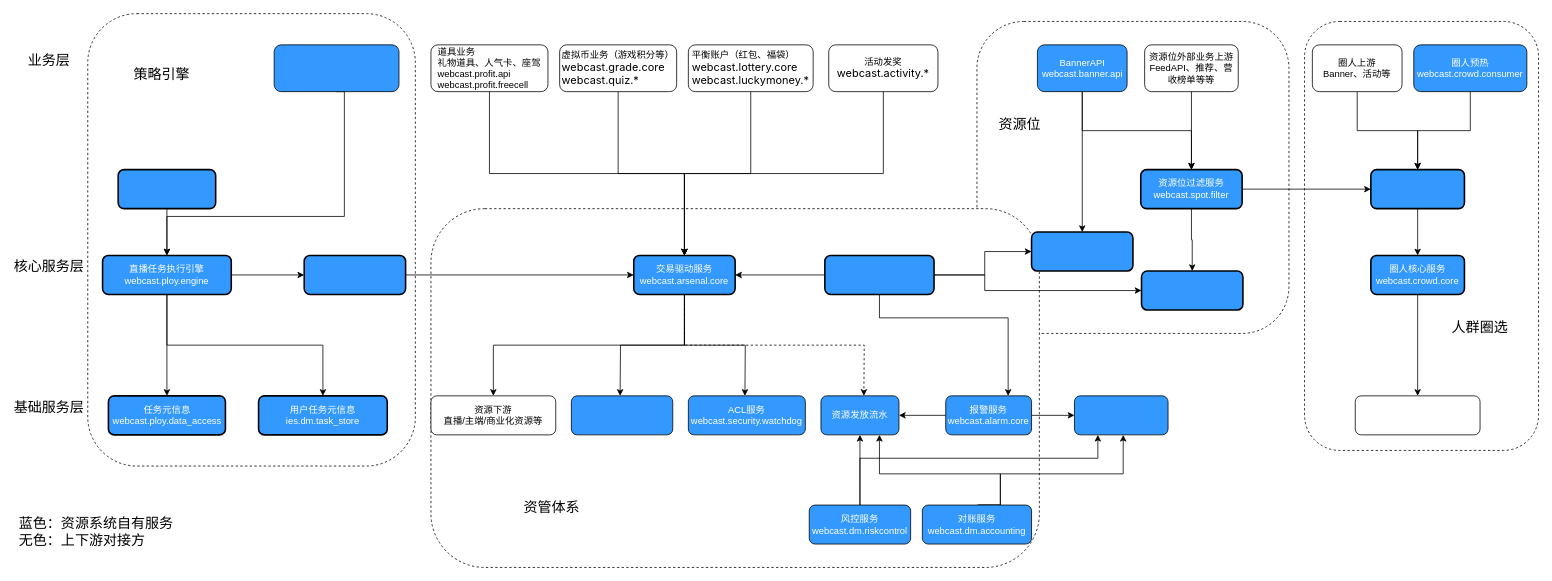
Image size: 1552x581. Some labels were removed from this diagram. Each missing label, with the centre of its shape:
"Banner核心服务(旧) webcast.banner.base" goes at [1081,251].
"圈人SDK webcast.crowd.sdk" goes at [1417,188].
"圈人下游 直播服务、数据中台、数仓等" goes at [1417,415].
"库存/元信息服务 webcast.property.base" goes at [622,415].
"直播任务发奖 webcast.ploy.reward" goes at [354,274].
"直播任务平台 webcast.ploy.task_manager" goes at [336,68].
"直播任务触发 webcast.ploy.event" goes at [166,188].
"规则服务 webcast.rule.engine" goes at [1121,415].
"资源位核心服务 webcast.spot.base" goes at [1191,290].
"项目管理平台 webcast.arsenal.console" goes at [879,274].
